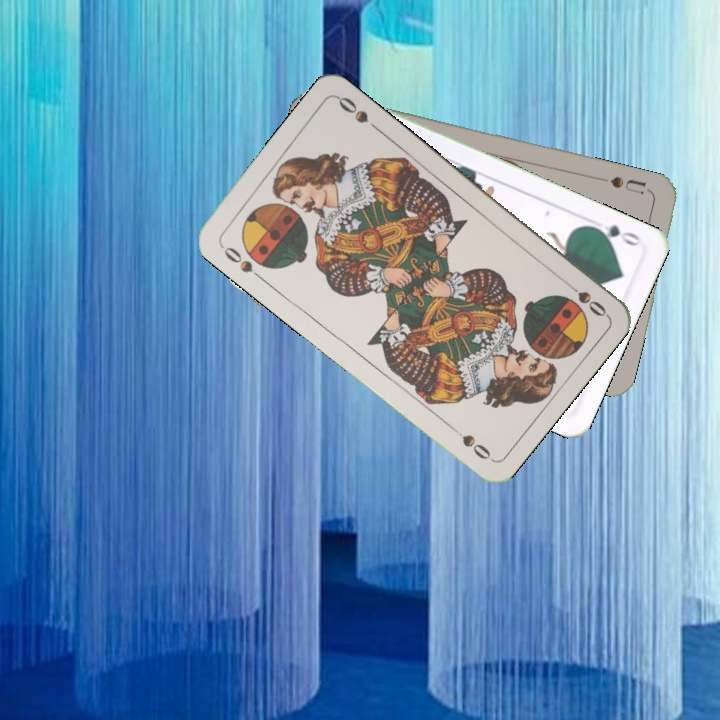GO: (586, 220, 643, 250)
SO: (559, 276, 610, 320), (216, 240, 266, 283)
SU: (606, 172, 655, 197)
